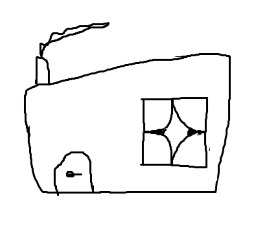closed_window: (134, 93, 215, 175)
door: (48, 144, 110, 200)
single_line_roof: (7, 49, 239, 93)
smoking_chimney: (28, 11, 113, 93)
wall: (20, 82, 233, 200)
